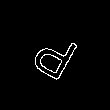P_SW: (23, 26, 80, 88)
